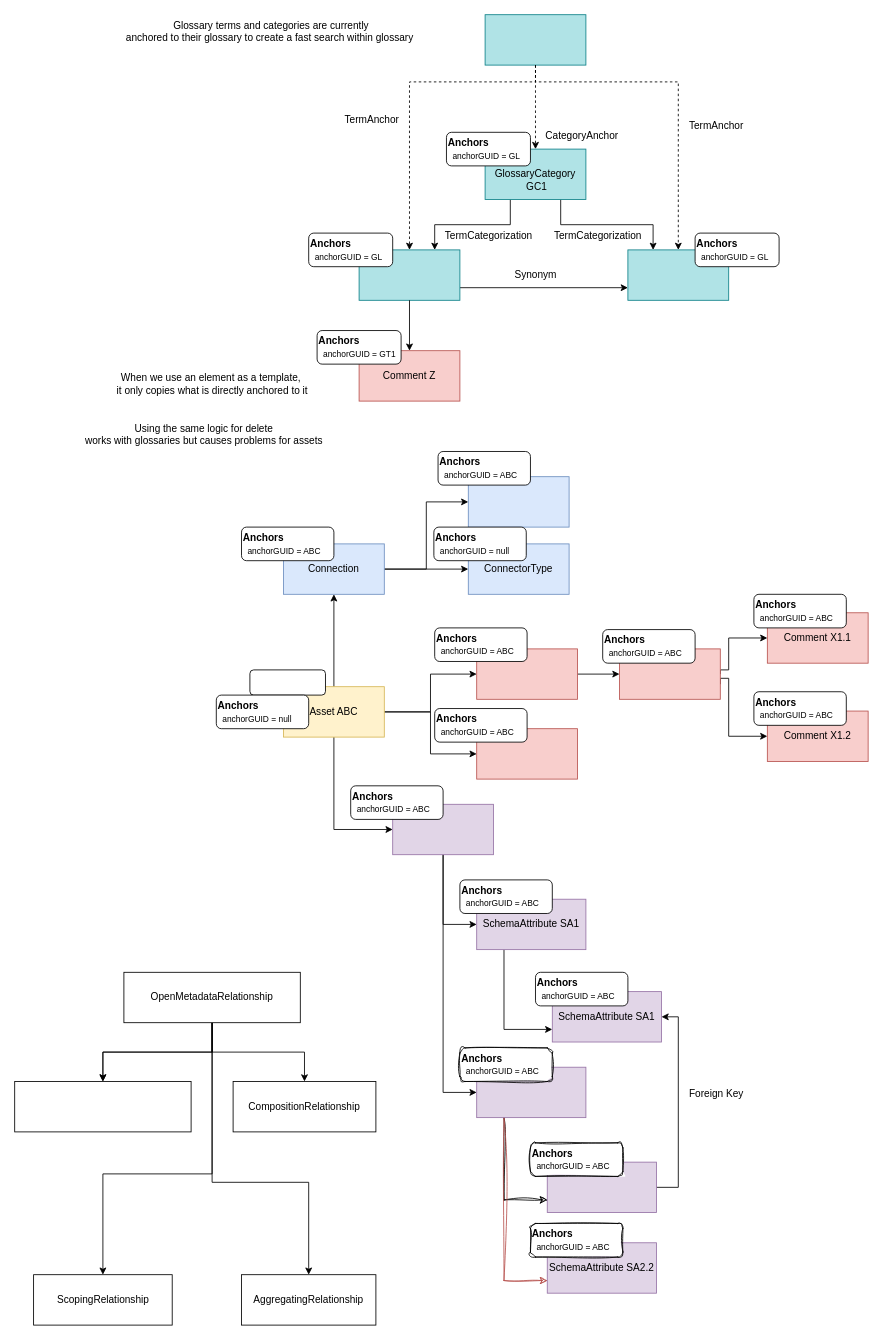
The diagram is 883 pixels wide and 1340 high, and some of its shapes have lost their labels. Each missing label, with the centre of its shape:
Comment X: (x=527, y=673)
Comment X1: (x=669, y=673)
Comment Y: (x=527, y=753)
Endpoint: (x=518, y=501)
Glossary GL: (x=535, y=39)
GlossaryTerm GT1: (x=409, y=274)
GlossaryTerm GT2: (x=678, y=274)
LatestChange: (x=287, y=682)
PeerToPeerRelationship: (x=102, y=1106)
SchemaAttribute SA2: (x=531, y=1092)
SchemaAttribute SA2.1: (x=601, y=1187)
SchemaType ST: (x=443, y=829)
